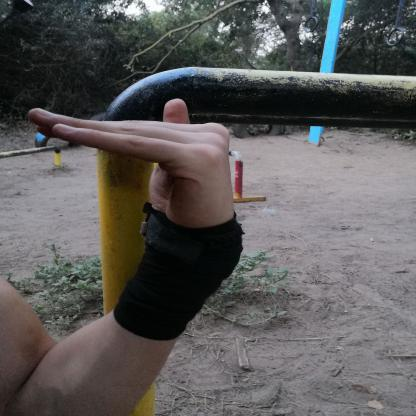KHAA: (13, 84, 256, 240)
